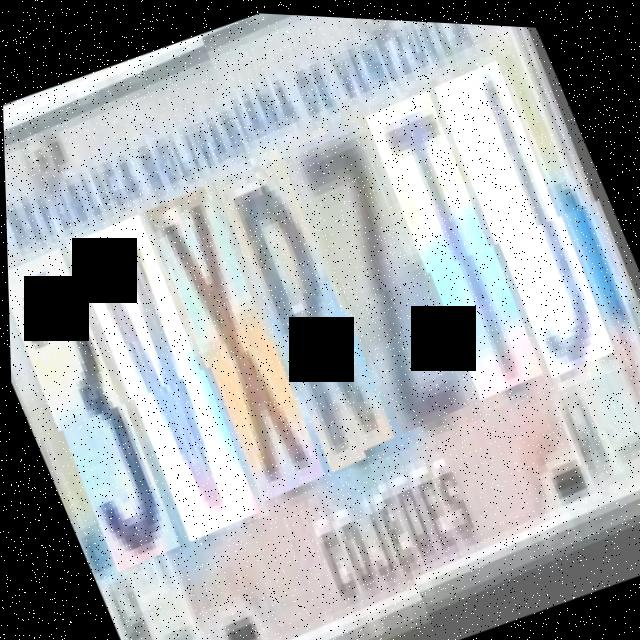3: (6, 244, 188, 573)
J: (435, 65, 629, 387)
R: (210, 150, 408, 474)
T: (366, 94, 556, 409)
V: (64, 210, 267, 542)
X: (141, 181, 334, 503)
Z: (286, 125, 483, 443)
